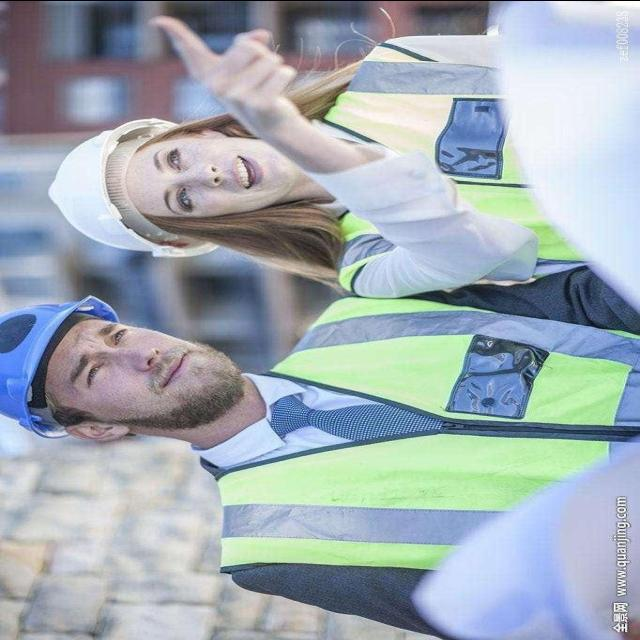helmet: (44, 108, 200, 260), (0, 288, 116, 450)
jacket: (215, 298, 640, 590), (316, 39, 626, 288)
